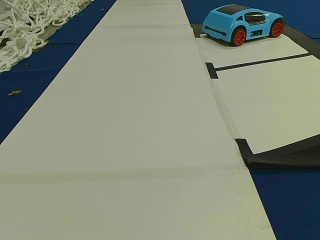car: (201, 5, 283, 45)
